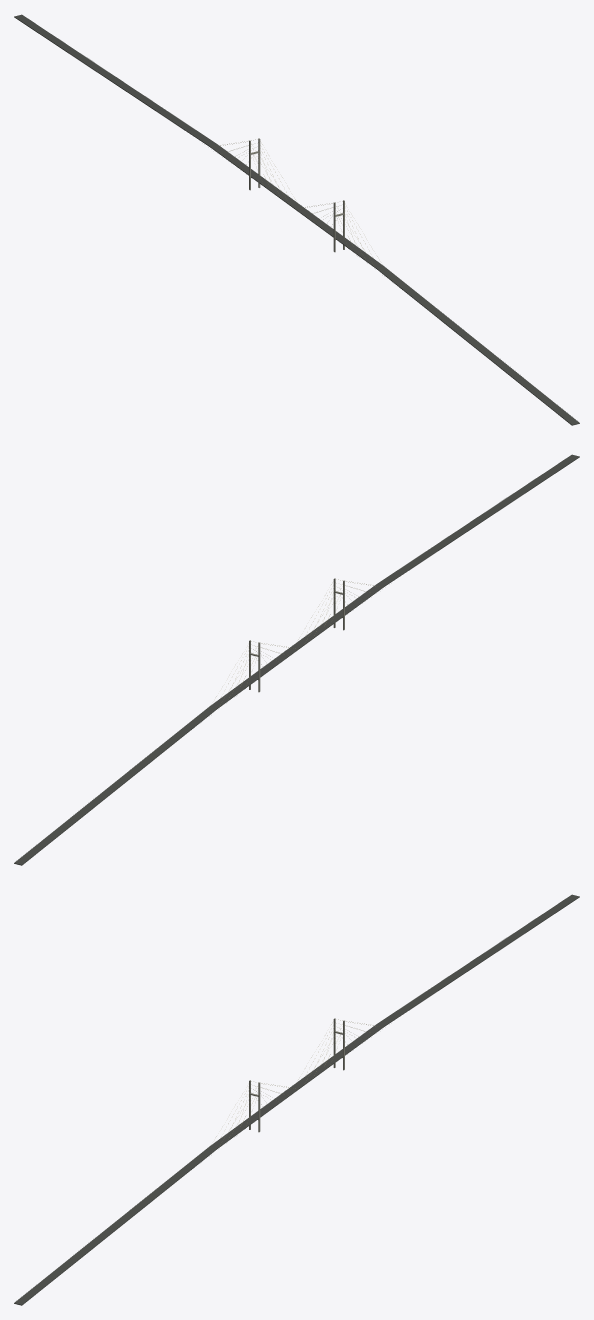
The model's file is vam-cong-far.glb.
The picture shows the model from 3 angles, top to bottom: view 1: azimuth 30°, elevation 25°; view 2: azimuth 150°, elevation 25°; view 3: azimuth 330°, elevation 25°; orthographic projection.
Visible parts, largest first — view 1: vam-cong-far; view 2: vam-cong-far; view 3: vam-cong-far.
Boxes of the visible parts, left/top/right/bottom form: vam-cong-far: left=14, top=14, right=579, bottom=425; vam-cong-far: left=14, top=454, right=579, bottom=865; vam-cong-far: left=14, top=894, right=579, bottom=1305.
Bounding box in the file's own units: 30.9 × 146 × 2966.
